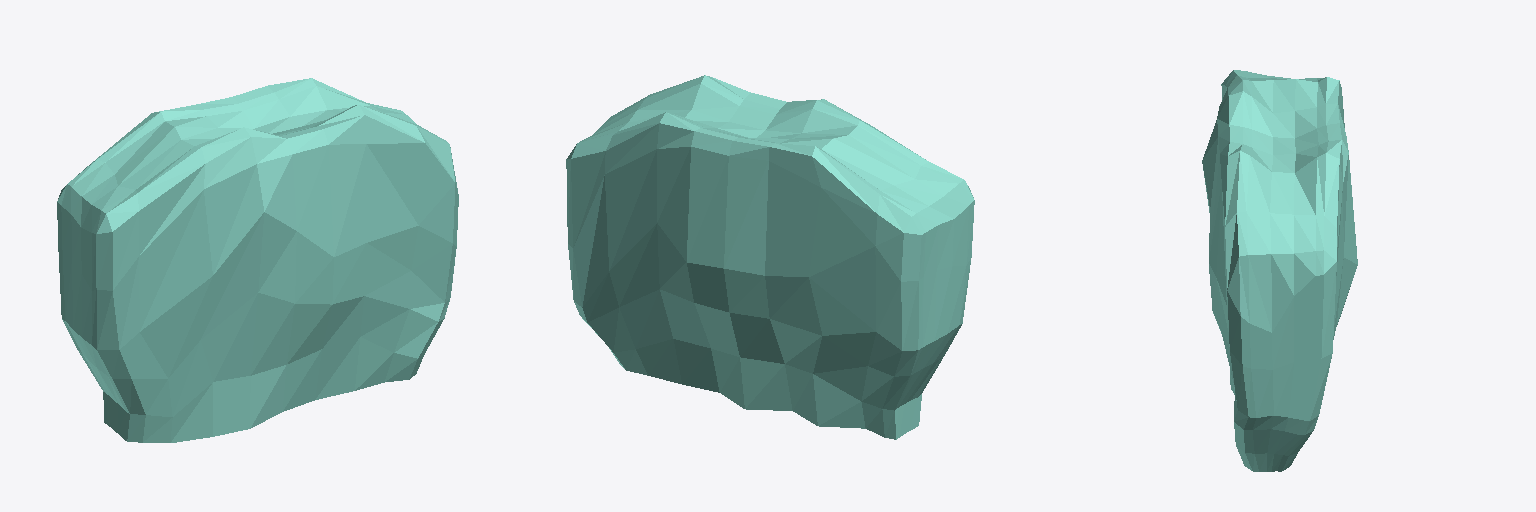
File: bush3.obj
3 renders of one model, left to right at view 1: azimuth 30°, elevation 25°; view 2: azimuth 150°, elevation 25°; view 3: azimuth 270°, elevation 25°, orthographic.
Parts seen in each view (by area): view 1: Box001; view 2: Box001; view 3: Box001.
Part boxes in pixels (x1,y1,x2,y2): Box001: (57, 78, 458, 442); Box001: (566, 75, 974, 439); Box001: (1202, 70, 1357, 471).
Size of the model in its own units: 18.28 by 14.28 by 6.73.